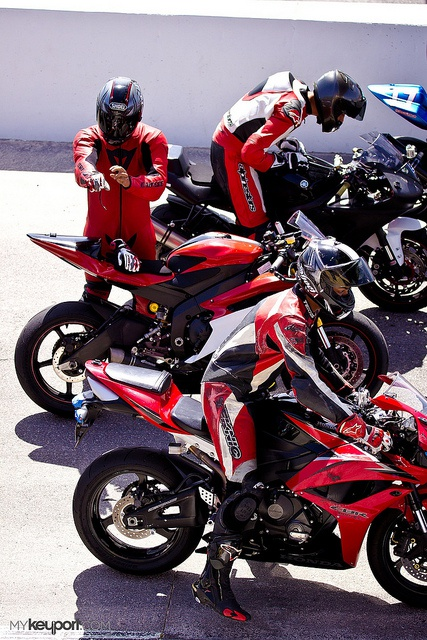non-vehicle: (70, 357, 426, 608), (13, 209, 389, 419), (151, 130, 426, 312), (365, 82, 427, 189)
